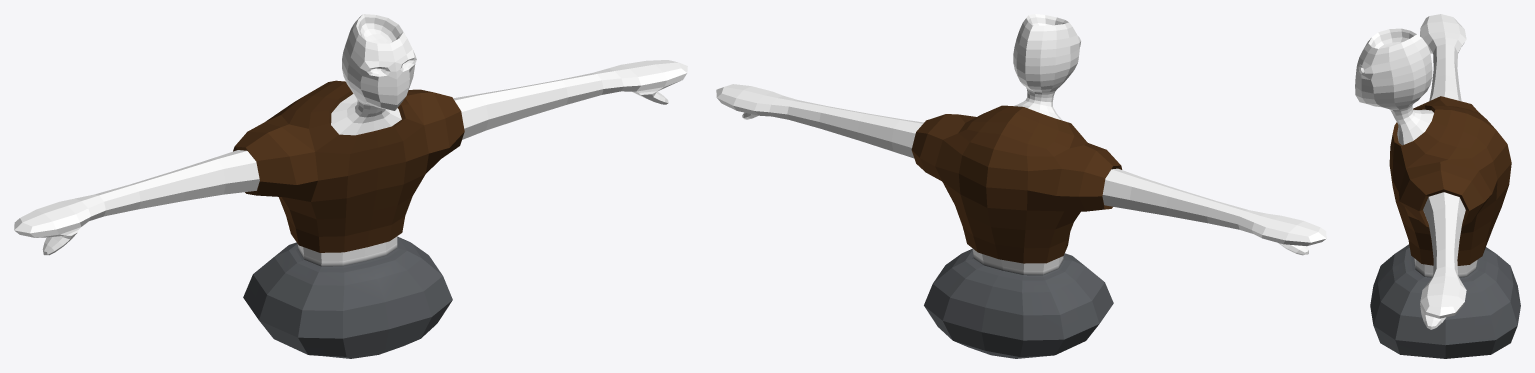
The model's file is goblin01.fbx.
The picture shows the model from 3 angles, left to right: view 1: azimuth 30°, elevation 25°; view 2: azimuth 150°, elevation 25°; view 3: azimuth 270°, elevation 25°; orthographic projection. The views are drawn at different scales.
Visible parts, largest first — view 1: body, goblin mail; view 2: body, goblin mail; view 3: body, goblin mail.
Part boxes in pixels (box(x1,y1,x2,y2)): body: box(14, 14, 687, 358); goblin mail: box(233, 80, 464, 252); body: box(716, 14, 1326, 358); goblin mail: box(911, 105, 1122, 263); body: box(1355, 14, 1520, 358); goblin mail: box(1389, 96, 1511, 265).
Size of the model in its own units: 1279 by 599 by 298.
